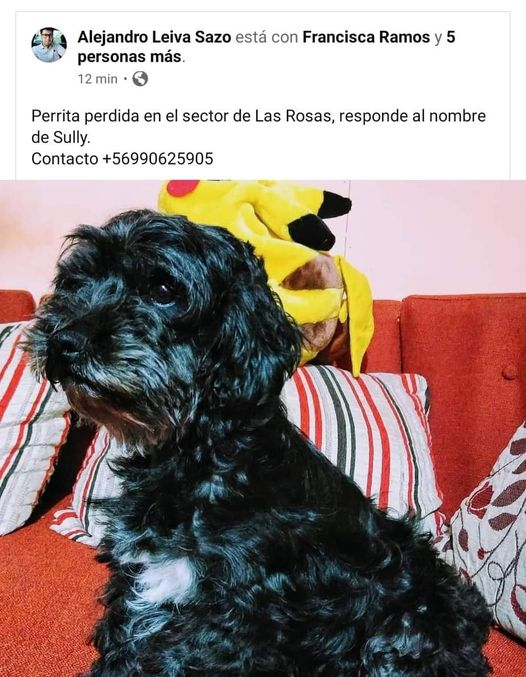dog: (19, 201, 502, 669)
